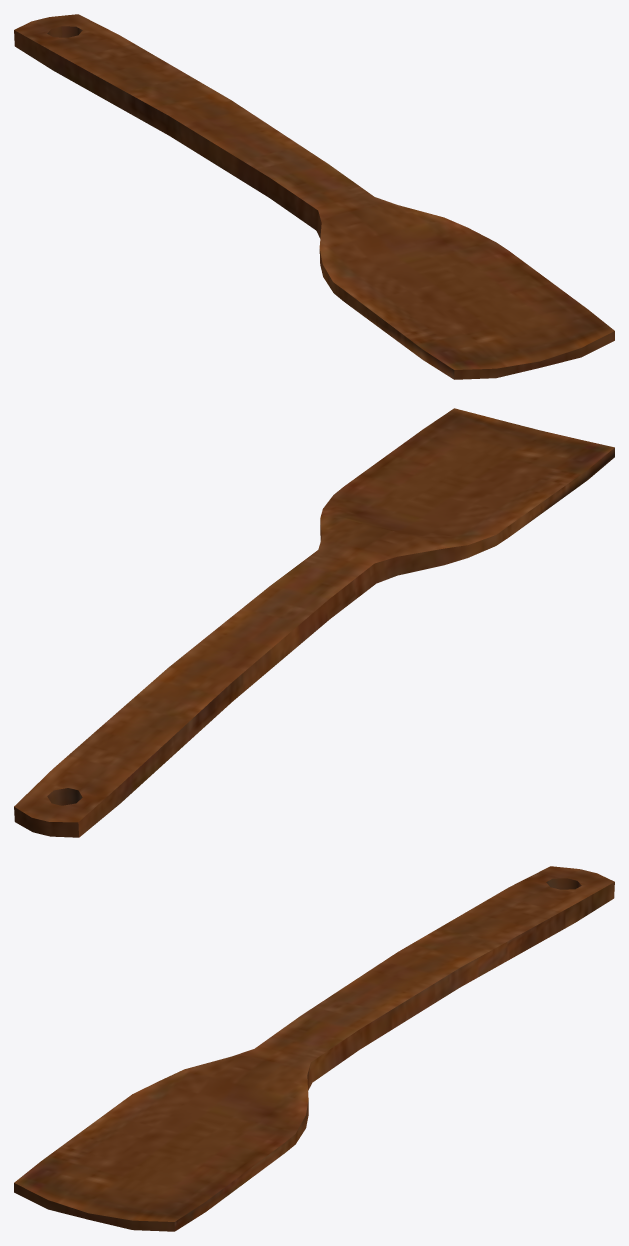
Rendered from spatula.glb.
3 renders of one model, top to bottom at view 1: azimuth 30°, elevation 25°; view 2: azimuth 150°, elevation 25°; view 3: azimuth 330°, elevation 25°, orthographic.
Visible parts, largest first — view 1: Spatula_A; view 2: Spatula_A; view 3: Spatula_A.
Part boxes in pixels (box(x1,y1,x2,y2)): Spatula_A: box(14, 14, 614, 379); Spatula_A: box(14, 408, 614, 837); Spatula_A: box(14, 866, 614, 1231).
Size of the model in its own units: 0.0731 by 0.024 by 0.3836.
Materials: 1 (1 with a texture image).
